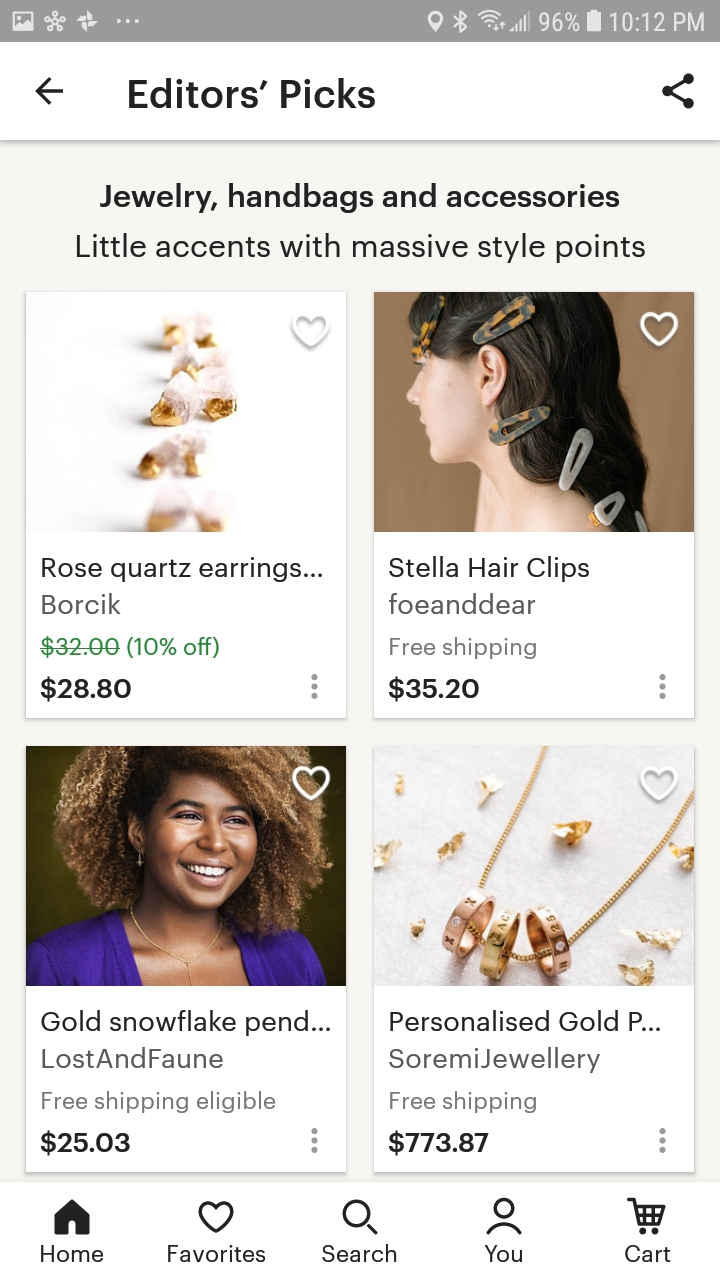Icon: (626, 1197, 666, 1235), (486, 1197, 522, 1235), (640, 312, 679, 347), (292, 313, 331, 348), (54, 1199, 91, 1235), (342, 1199, 378, 1235), (640, 767, 678, 801), (293, 767, 330, 801), (662, 73, 695, 110), (199, 1200, 235, 1233), (35, 77, 64, 106), (658, 1128, 667, 1154), (311, 1128, 319, 1154), (659, 674, 667, 700), (311, 674, 319, 700)
Image: (27, 292, 347, 533), (26, 746, 347, 986), (374, 747, 694, 987), (374, 292, 694, 532)
Text: (77, 233, 645, 264), (41, 1009, 331, 1069), (390, 1010, 660, 1073), (100, 183, 620, 214), (42, 558, 323, 615), (389, 556, 590, 615), (129, 78, 376, 110), (42, 1091, 276, 1114), (41, 635, 220, 659), (390, 636, 537, 660), (389, 1091, 537, 1114), (389, 1130, 490, 1157), (42, 675, 133, 702), (389, 676, 480, 703), (41, 1130, 131, 1156), (168, 1244, 266, 1263), (322, 1244, 398, 1263), (41, 1245, 104, 1263), (625, 1245, 670, 1262), (485, 1244, 523, 1262)
UpperTaskBar: (2, 1, 720, 43)
